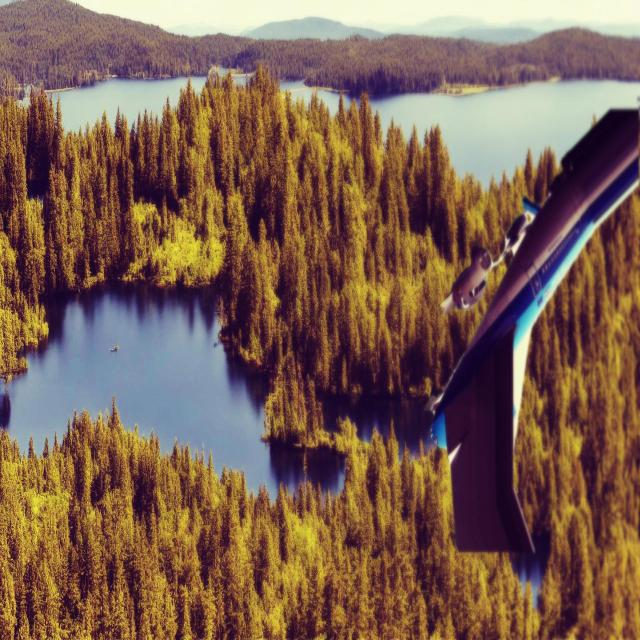airplane: (424, 104, 639, 554)
